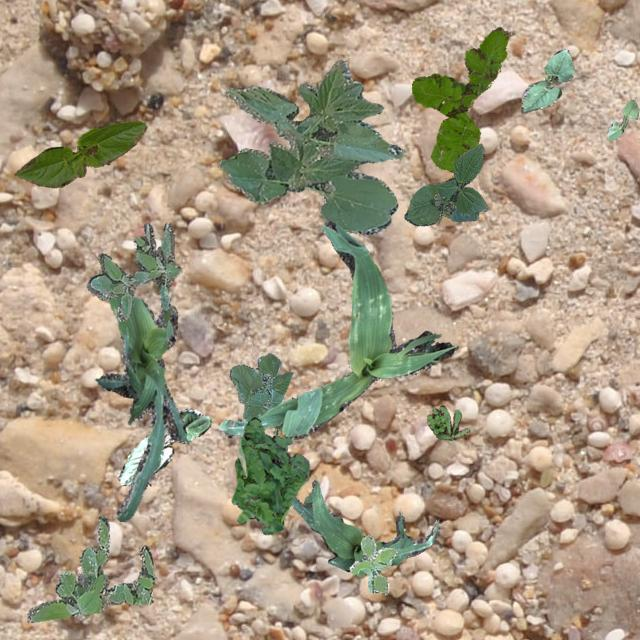crop: (218, 221, 454, 438), (218, 58, 402, 234), (94, 293, 188, 522), (290, 480, 438, 576), (14, 120, 146, 187), (117, 408, 210, 484), (404, 143, 486, 225), (228, 352, 292, 418), (520, 48, 572, 112), (606, 98, 638, 138)
weed: (410, 27, 510, 172), (26, 514, 156, 622), (86, 222, 180, 321), (230, 416, 308, 534), (348, 534, 396, 594), (426, 404, 468, 439)
